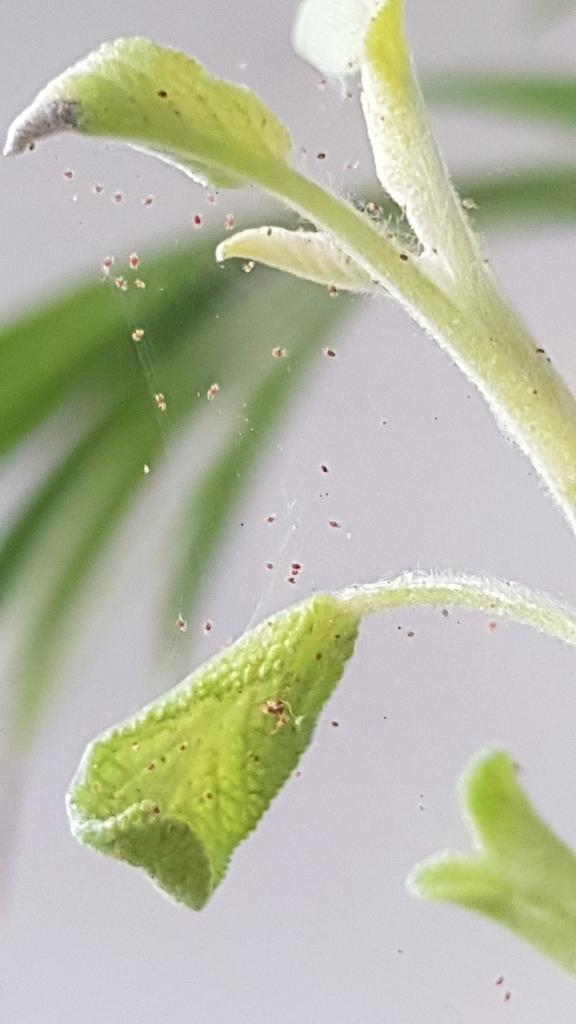tiny_pests: (95, 249, 154, 298), (260, 546, 310, 598), (253, 685, 301, 737), (84, 182, 133, 210), (197, 374, 227, 405), (265, 337, 293, 365), (128, 318, 150, 350), (170, 611, 194, 639), (147, 385, 172, 411), (317, 342, 342, 364), (55, 165, 80, 185), (200, 611, 216, 641), (191, 211, 208, 230)
